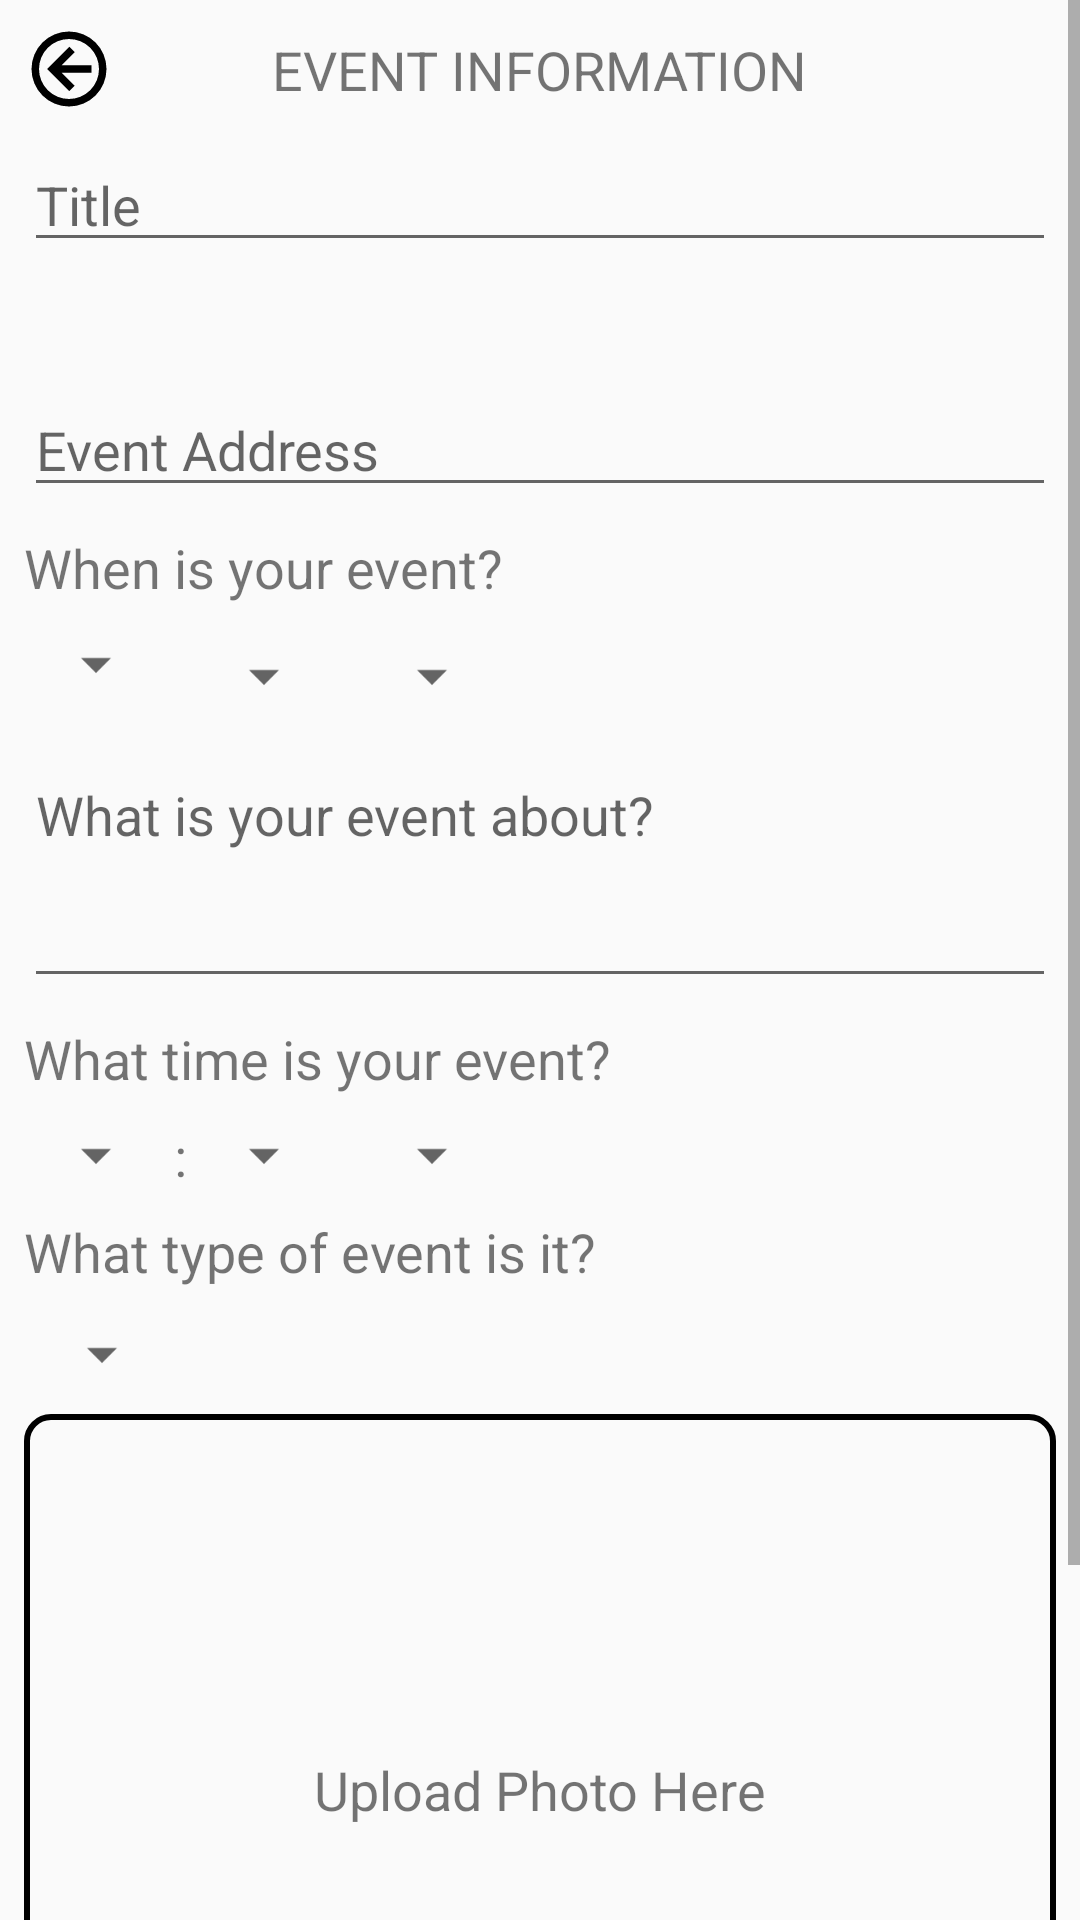

Where icons sit on this 1080*1920 app screen, as box(x1, y1, x2, y2):
arrow left circle: box(31, 31, 107, 107)
